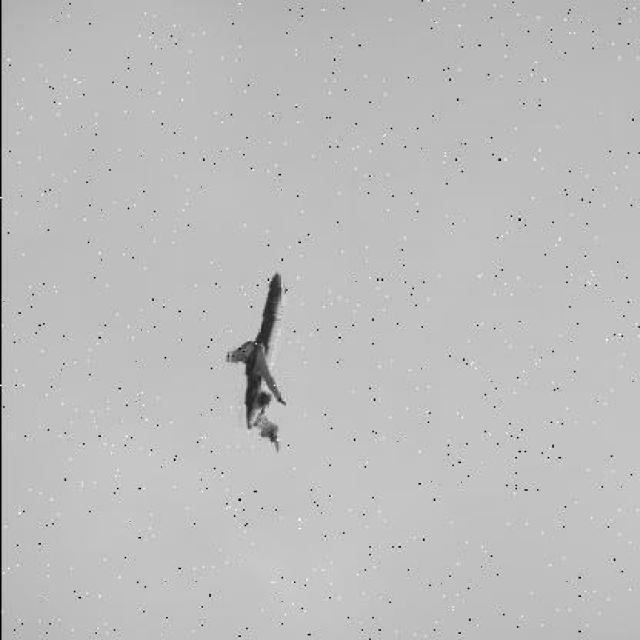aeroplane: (224, 271, 287, 452)
